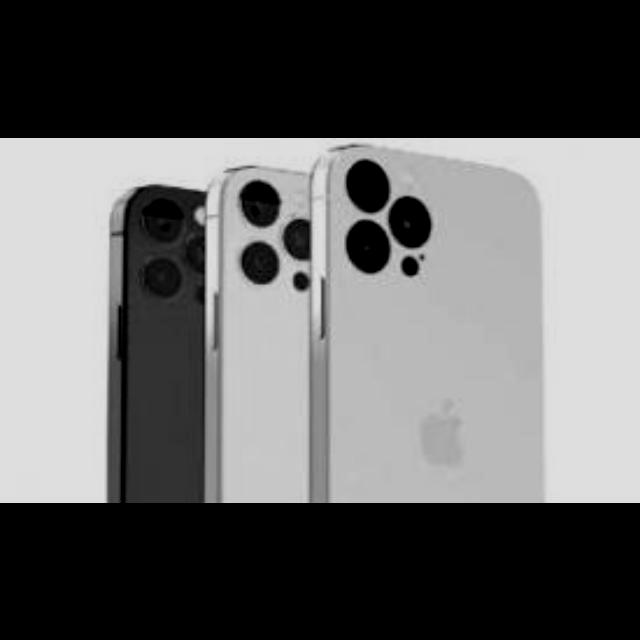fake: (311, 152, 546, 494), (205, 161, 312, 501), (103, 176, 205, 506)
